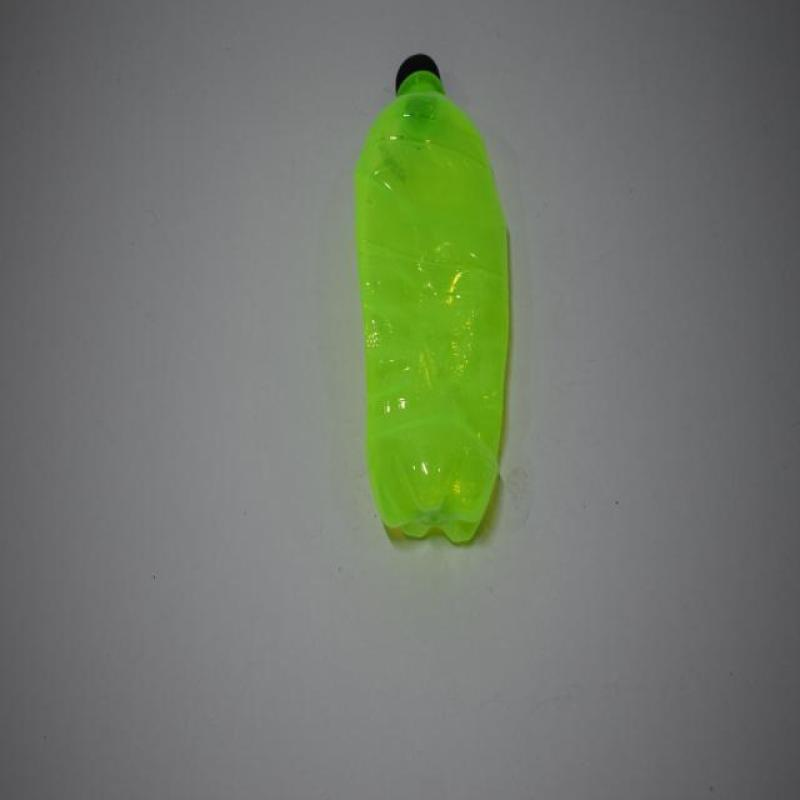botella: (354, 50, 511, 550)
